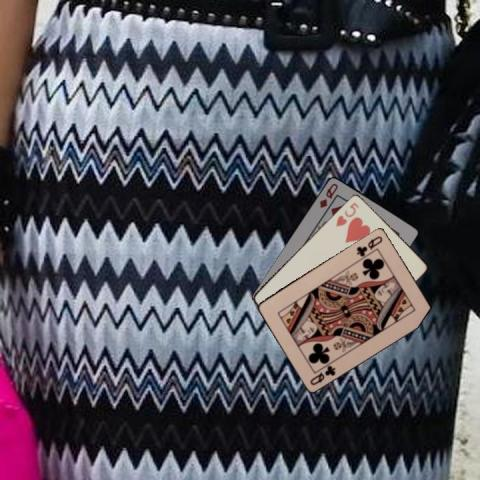5h: (332, 199, 360, 228)
Qc: (353, 233, 384, 258), (306, 362, 336, 387)
Qd: (317, 180, 339, 209)
